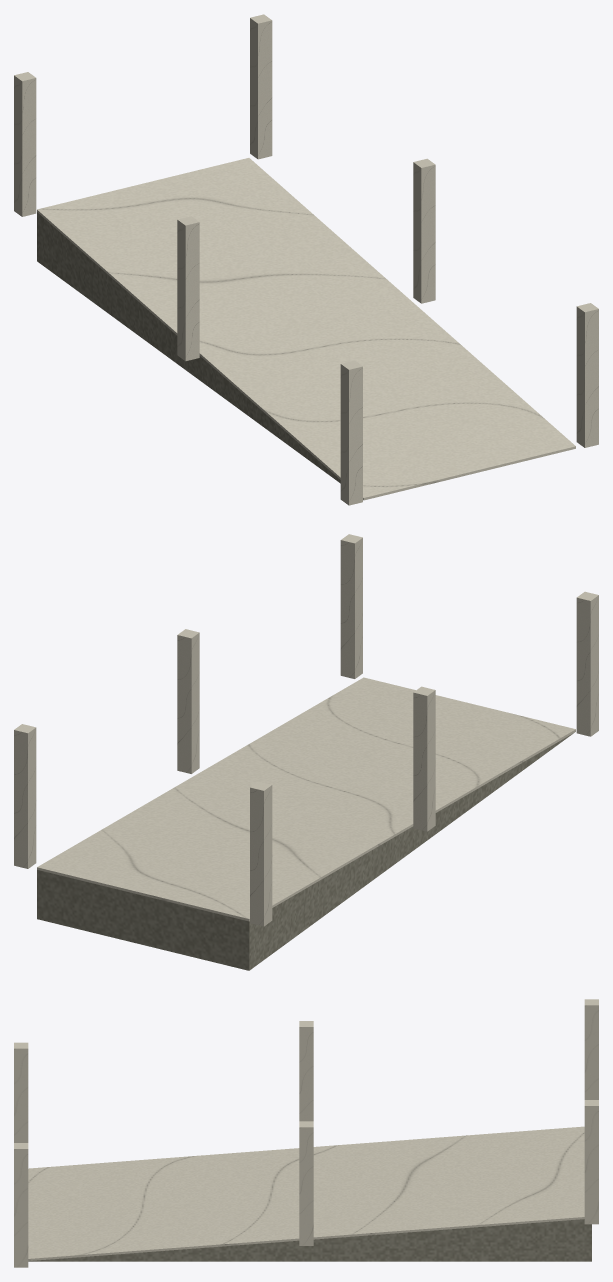
3 views of the same model, one above another, from view 1: azimuth 30°, elevation 25°; view 2: azimuth 150°, elevation 25°; view 3: azimuth 270°, elevation 25° (orthographic). The views are drawn at different scales.
Visible parts, largest first — view 1: Separate 20mm marble ramp facing, Stone ramp support, Outside-route guard post, Outside-route guard post.001, Outside-route guard post.004, Outside-route guard post.005, Outside-route guard post.002, Outside-route guard post.003; view 2: Separate 20mm marble ramp facing, Stone ramp support, Outside-route guard post.001, Outside-route guard post, Outside-route guard post.002, Outside-route guard post.003, Outside-route guard post.004, Outside-route guard post.005; view 3: Separate 20mm marble ramp facing, Stone ramp support, Outside-route guard post.003, Outside-route guard post.004, Outside-route guard post.005, Outside-route guard post.001, Outside-route guard post.002, Outside-route guard post.
Boxes of the visible parts, box(x1,y1,x2,y2) form: Separate 20mm marble ramp facing: box(37, 158, 575, 500); Stone ramp support: box(37, 212, 340, 483); Outside-route guard post: box(340, 360, 362, 505); Outside-route guard post.001: box(177, 216, 199, 361); Outside-route guard post.004: box(413, 158, 435, 303); Outside-route guard post.005: box(250, 14, 272, 159); Outside-route guard post.002: box(14, 72, 36, 216); Outside-route guard post.003: box(576, 303, 598, 447); Separate 20mm marble ramp facing: box(37, 677, 575, 921); Stone ramp support: box(37, 732, 574, 970); Outside-route guard post.001: box(413, 686, 435, 831); Outside-route guard post: box(576, 591, 598, 736); Outside-route guard post.002: box(250, 781, 272, 926); Outside-route guard post.003: box(340, 534, 362, 678); Outside-route guard post.004: box(177, 629, 199, 773); Outside-route guard post.005: box(14, 724, 36, 868); Separate 20mm marble ramp facing: box(28, 1126, 584, 1260); Stone ramp support: box(28, 1219, 591, 1261); Outside-route guard post.003: box(14, 1143, 28, 1267); Outside-route guard post.004: box(299, 1121, 313, 1245); Outside-route guard post.005: box(584, 1100, 598, 1224); Outside-route guard post.001: box(299, 1021, 313, 1121); Outside-route guard post.002: box(584, 999, 598, 1099); Outside-route guard post: box(14, 1042, 28, 1142).
Size of the model in its own units: 2.12 by 1.52 by 4.92.
2 materials, 2 textured.
